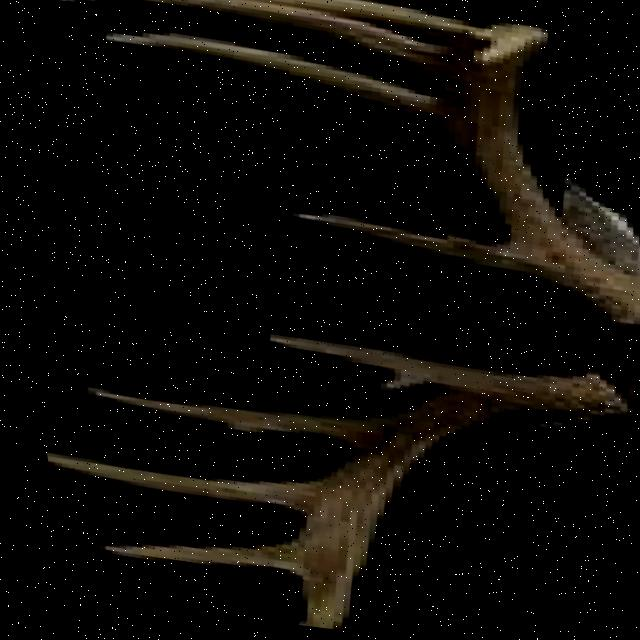E1: (368, 373, 420, 393)
L-F: (276, 369, 629, 632)
L-G1: (247, 331, 526, 399)
L-G2: (66, 383, 373, 447)
L-G3: (37, 449, 310, 517)
L-G4: (81, 531, 286, 581)
R-F: (455, 20, 640, 327)
R-G1: (282, 209, 540, 281)
R-G2: (94, 27, 447, 141)
R-G3: (61, 0, 451, 92)
R-G4: (254, 0, 485, 43)
